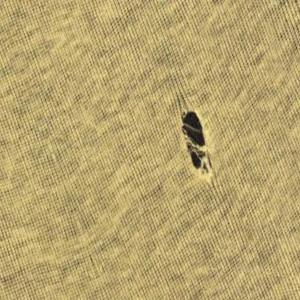hole: (175, 106, 215, 177)
